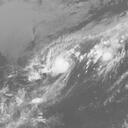cyclone: (40, 40, 85, 77)
